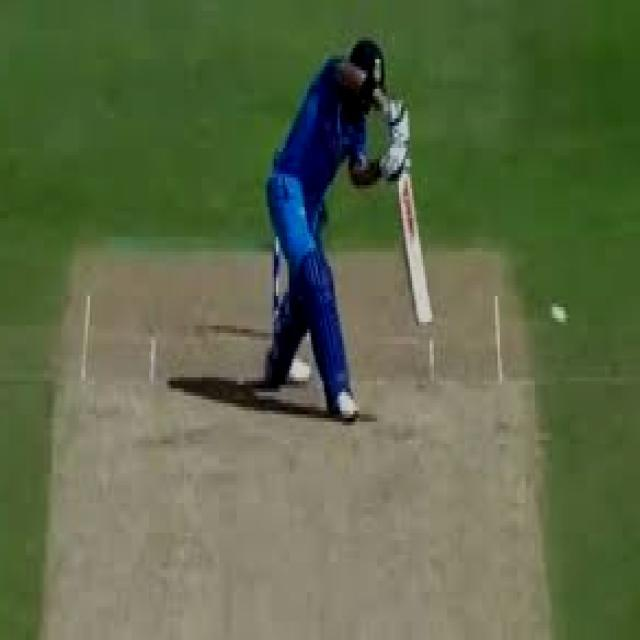bat: (397, 166, 449, 331)
toe: (414, 310, 436, 329)
